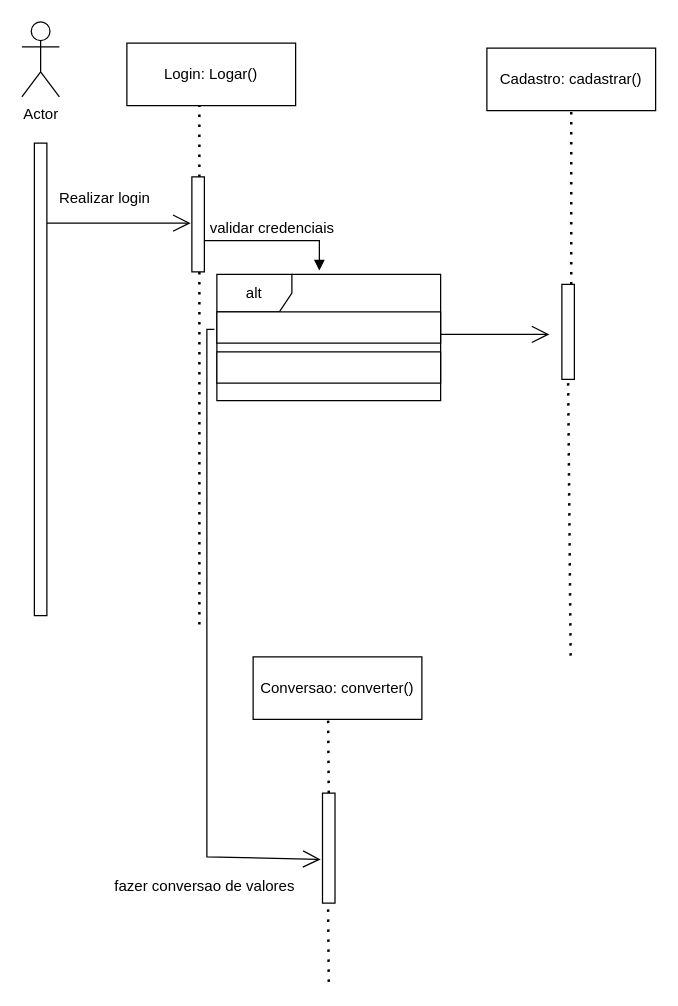
Image size: 678x1006. Some labels were removed from this diagram. The shapes that lost their labels are listed below. From the top down, each one's centre as x and y in pixels, then its label:
pixel 328 327: Possui cadastro
pixel 328 367: Não possui cadastro
